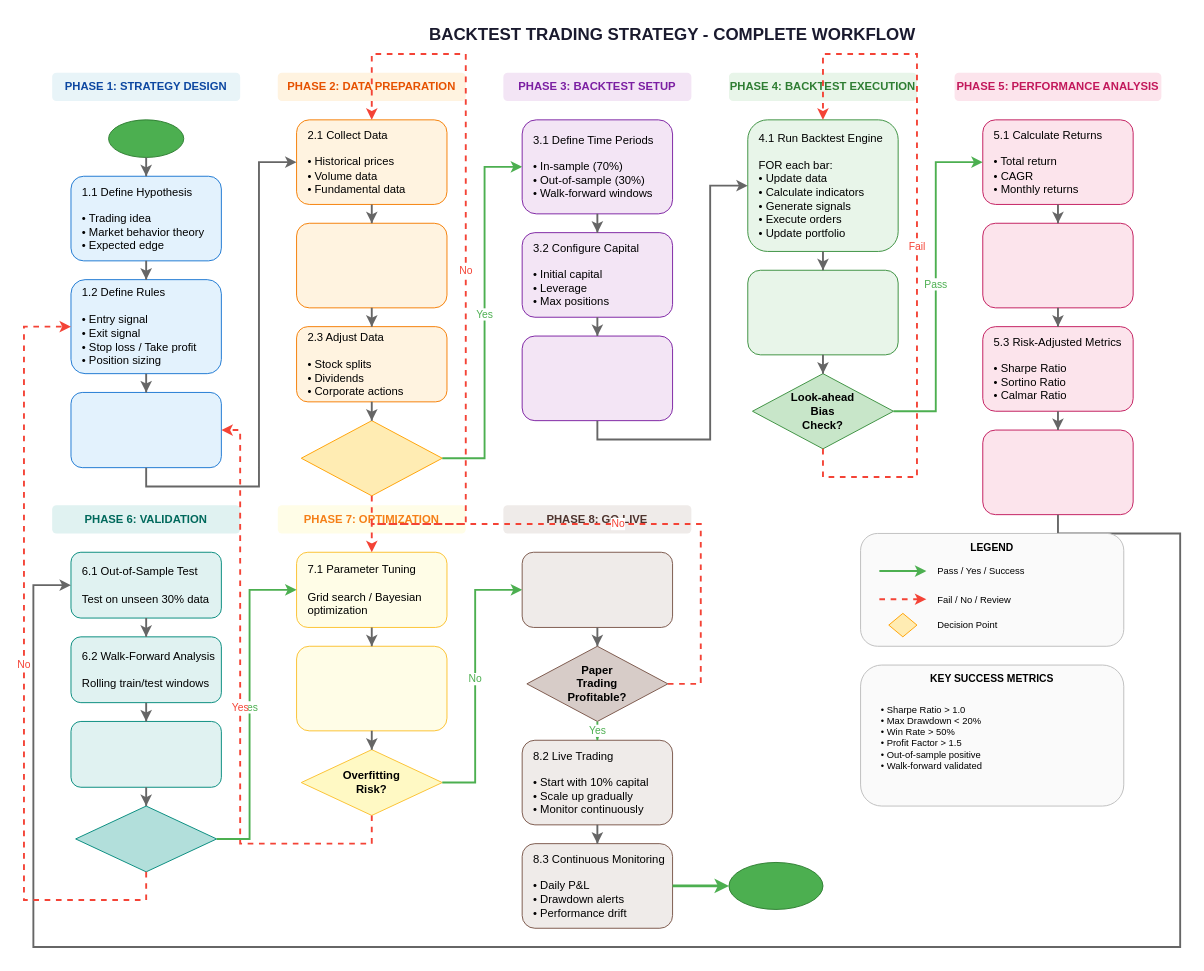
This 1204x971 diagram has some shape labels left out. Here are the shapes that lost their labels. From the top down, the centre of each, then its label:
At (x=146, y=138): "START".
At (x=371, y=265): "2.2 Data Quality Check • Missing values • Outliers • Timezone consistency".
At (x=1057, y=265): "5.2 Calculate Risk Metrics • Max Drawdown • Volatility • VaR".
At (x=822, y=312): "4.2 Record Results • Trade log • Equity curve • Drawdown series".
At (x=597, y=378): "3.3 Set Transaction Costs • Brokerage fees • Tax (STT) • Slippage estimate".
At (x=145, y=430): "1.3 Set Parameters • Indicator periods • Thresholds • Risk limits".
At (x=371, y=458): "Survivorship Bias Addressed?".
At (x=1057, y=472): "5.4 Trade Statistics • Win rate • Profit factor • Avg holding period".
At (x=597, y=589): "8.1 Paper Trading 1-3 months simulation with real-time data".
At (x=371, y=688): "7.2 Robustness Check • ±10% parameter change • Different markets • Stress test".
At (x=145, y=754): "6.3 Monte Carlo Simulation Shuffle trades 1000+ times".
At (x=146, y=838): "Results Robust?".
At (x=775, y=885): "LIVE TRADING".
